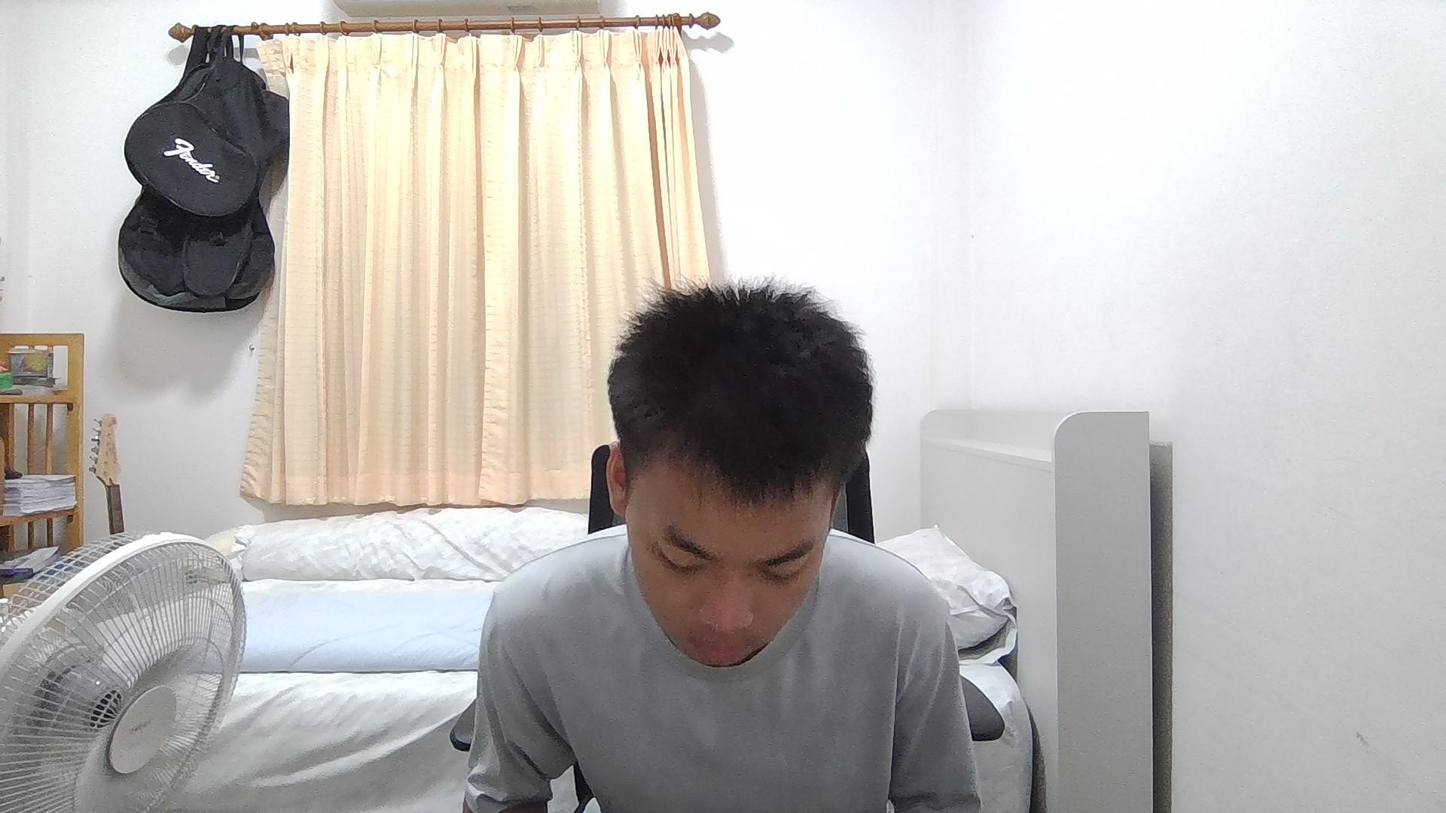BadPosture: (464, 283, 981, 812)
